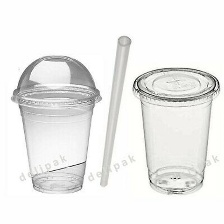drinking_straw: (93, 31, 135, 190)
glass: (6, 49, 106, 196), (130, 63, 223, 195)
